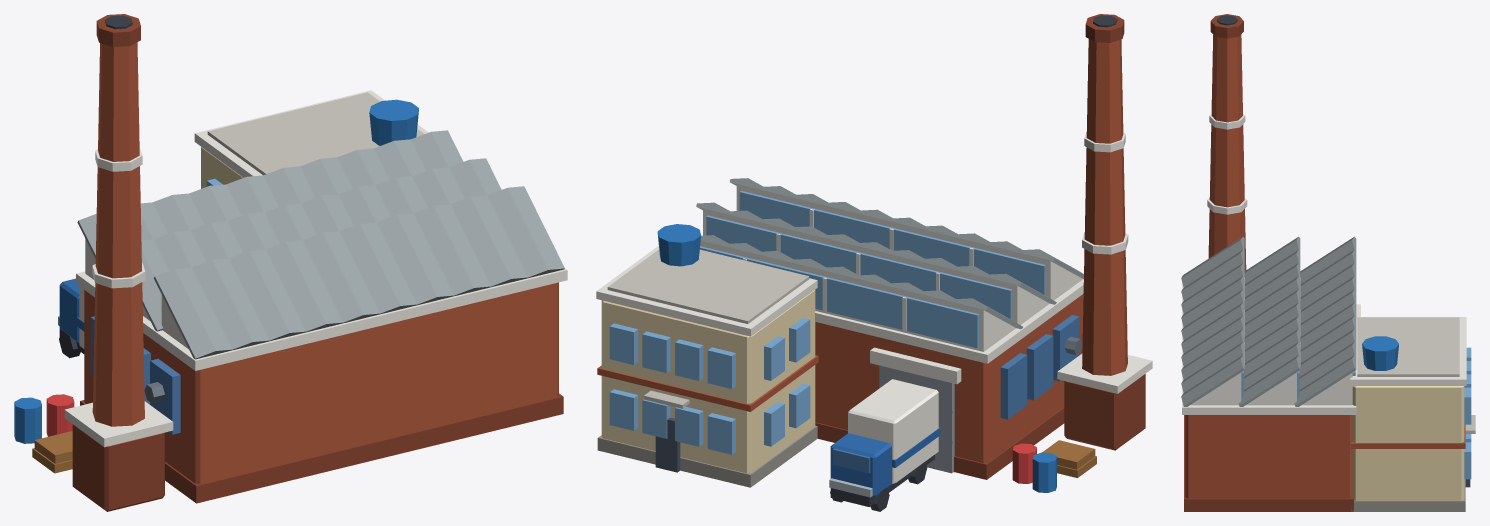
File: fabrica.glb
The picture shows the model from 3 angles, left to right: view 1: azimuth 30°, elevation 25°; view 2: azimuth 150°, elevation 25°; view 3: azimuth 270°, elevation 25°; orthographic projection. The views are drawn at different scales.
Parts seen in each view (by area): view 1: corpo; view 2: corpo; view 3: corpo.
Part boxes in pixels (bbox=[...]): corpo: bbox=[14, 14, 567, 511]; corpo: bbox=[596, 14, 1152, 511]; corpo: bbox=[1181, 14, 1475, 511].
Bounding box in the file's own units: 1.64 × 1.64 × 1.27.
